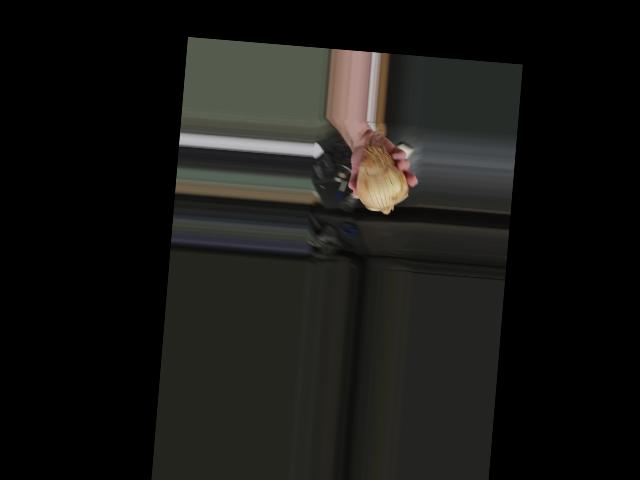onion: (353, 146, 410, 215)
